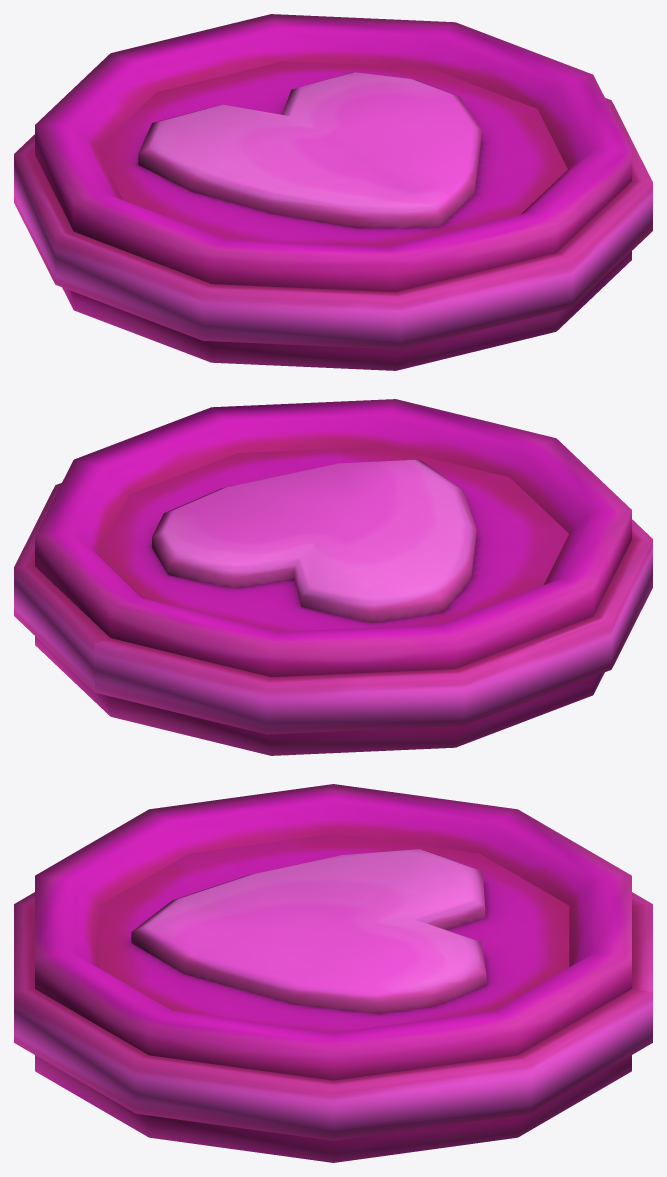
The model's file is JetonRouge.FBX.
The picture shows the model from 3 angles, top to bottom: view 1: azimuth 30°, elevation 25°; view 2: azimuth 150°, elevation 25°; view 3: azimuth 270°, elevation 25°; orthographic projection. The views are drawn at different scales.
Parts seen in each view (by area): view 1: JetonRouge; view 2: JetonRouge; view 3: JetonRouge.
Part boxes in pixels (box(x1,y1,x2,y2)): JetonRouge: box(14, 14, 652, 370); JetonRouge: box(14, 399, 652, 755); JetonRouge: box(14, 784, 652, 1162).
Size of the model in its own units: 0.91 by 0.17 by 0.8655.
